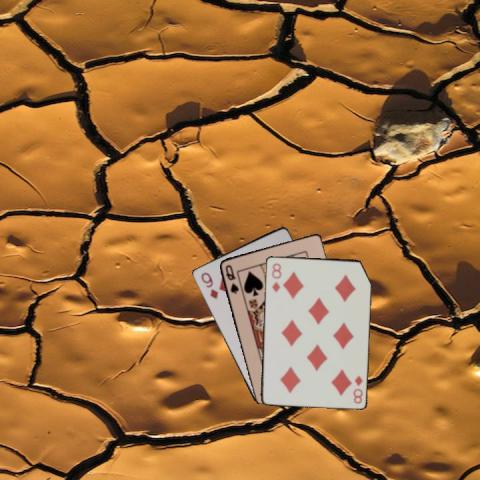8d: (350, 372, 364, 405), (269, 260, 282, 293)
9d: (198, 269, 220, 300)
Qs: (222, 262, 240, 296)
